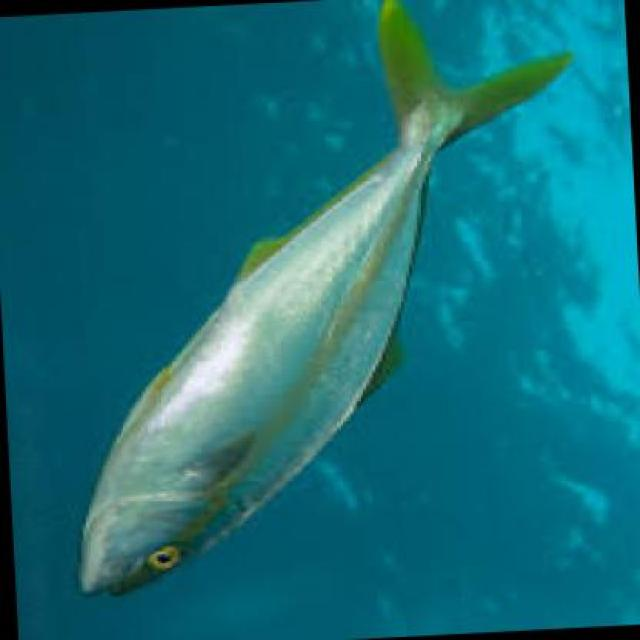Kingfish: (71, 0, 578, 607)
